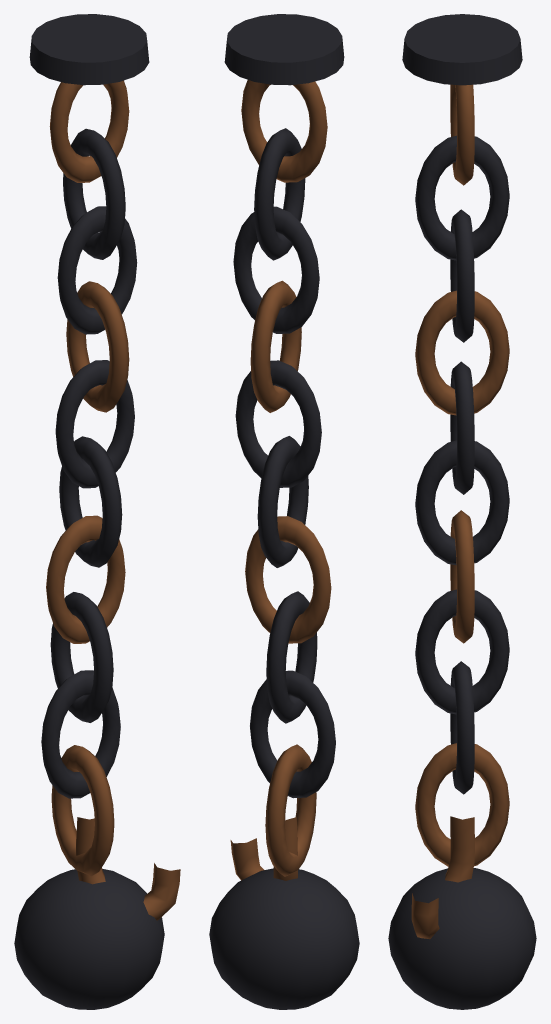
File: mia-chain.glb
The picture shows the model from 3 angles, left to right: view 1: azimuth 30°, elevation 25°; view 2: azimuth 150°, elevation 25°; view 3: azimuth 270°, elevation 25°; orthographic projection.
Parts seen in each view (by area): view 1: Body_iron, Body_rust; view 2: Body_iron, Body_rust; view 3: Body_iron, Body_rust.
Part boxes in pixels (x1=…): Body_iron: x1=14, y1=14, x2=164, y2=1009; Body_rust: x1=46, y1=80, x2=180, y2=920; Body_iron: x1=209, y1=14, x2=359, y2=1009; Body_rust: x1=230, y1=80, x2=331, y2=880; Body_iron: x1=388, y1=14, x2=536, y2=1009; Body_rust: x1=411, y1=84, x2=509, y2=939.
Bounding box in the file's own units: 0.2262 × 1.52 × 0.212.
